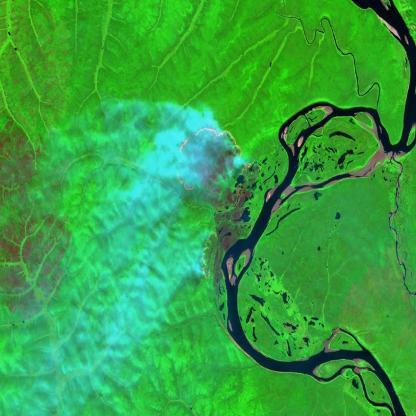fire: (172, 119, 242, 191), (198, 228, 224, 282)
